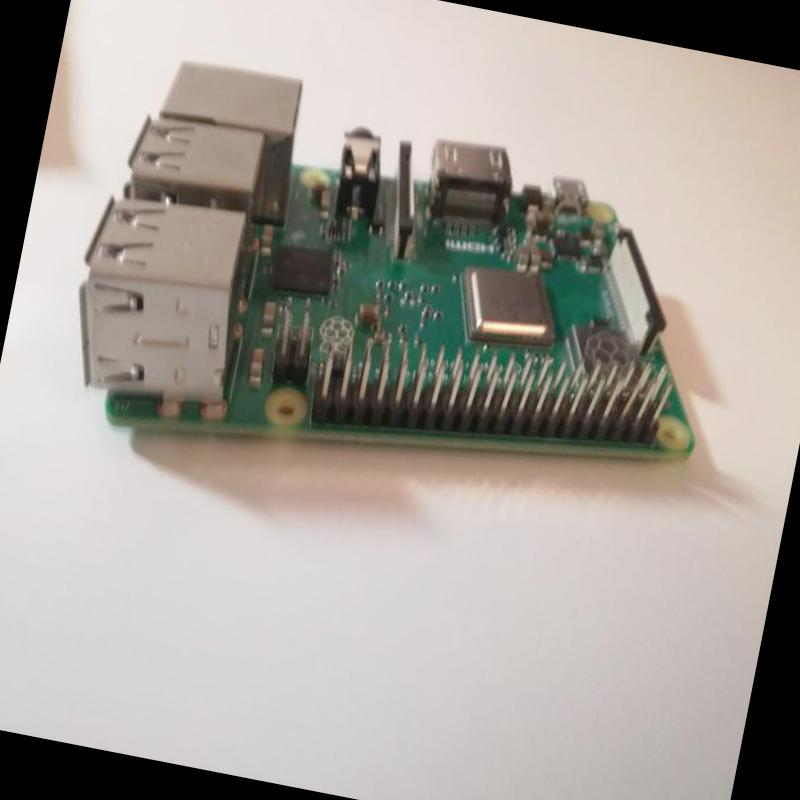Raspberry_Pi_3: (44, 30, 758, 540)
